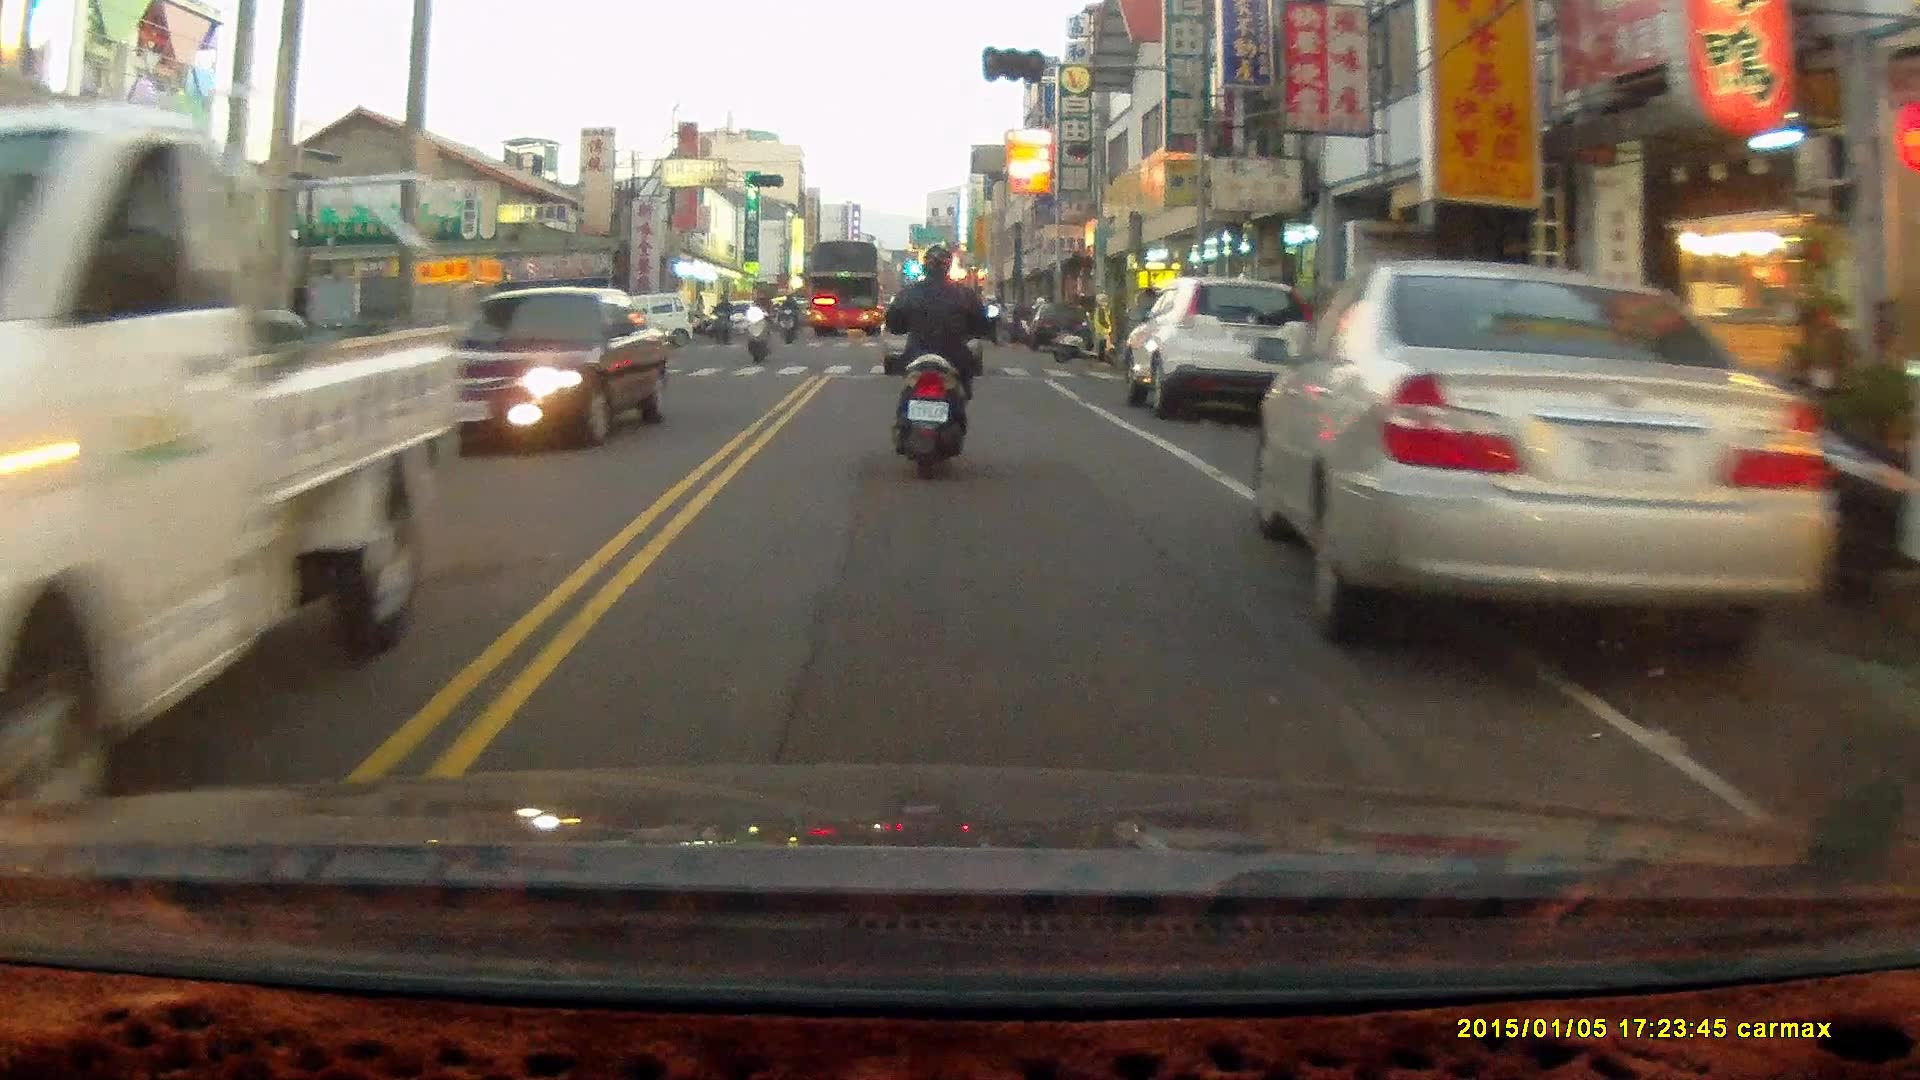pedestrian: (1089, 289, 1114, 367)
rider: (878, 243, 999, 480), (741, 284, 772, 361), (710, 290, 732, 345), (779, 289, 799, 347)
vehicle: (1, 102, 467, 802), (1251, 261, 1856, 659), (397, 287, 679, 461), (1128, 276, 1301, 418), (804, 244, 888, 338)
